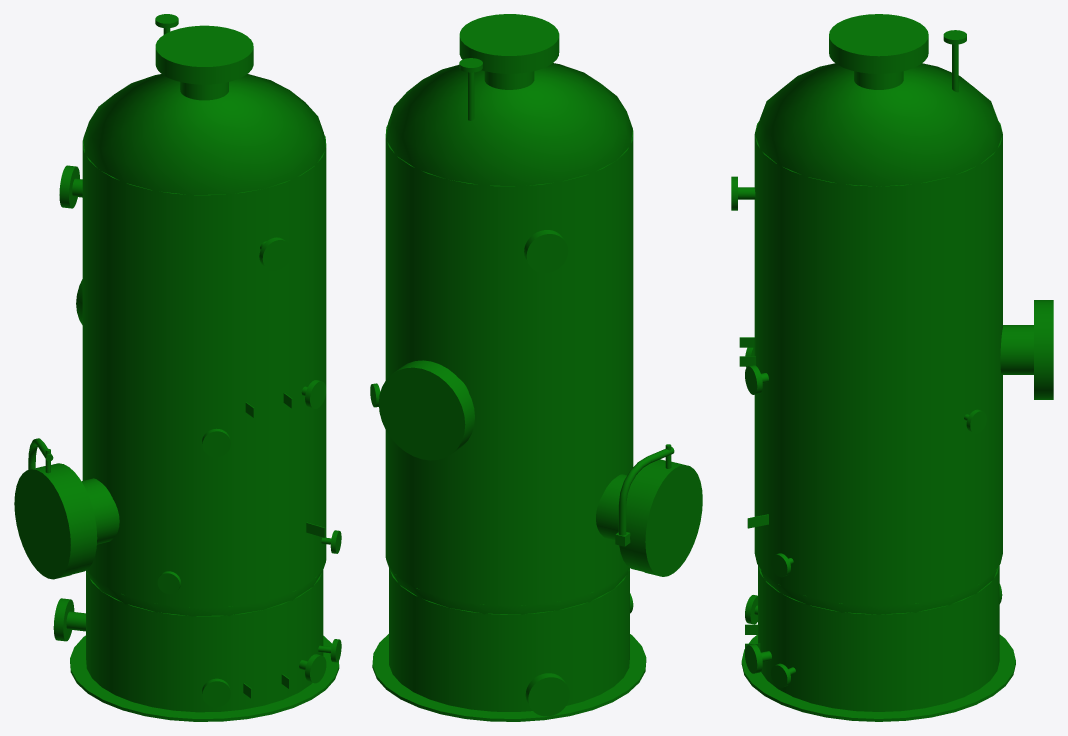
The model's file is Image-1711348128173-2280820698256_24-VG50.fbx.
3 renders of one model, left to right at view 1: azimuth 30°, elevation 25°; view 2: azimuth 150°, elevation 25°; view 3: azimuth 270°, elevation 25°, orthographic.
Visible parts, largest first — view 1: CYLINDER 2 of SUBEQUIPMENT /24-VG50/PRIM, DISH 2 of SUBEQUIPMENT /24-VG50/PRIM, CYLINDER 1 of SUBEQUIPMENT /24-VG50/SKIRT, CYLINDER 1 of SUBEQUIPMENT /24-VG50/NOZZ, /24-VG50/N2, CYLINDER 2 of SUBEQUIPMENT /24-VG50/SKIRT, /24-VG50/M1, CYLINDER 3 of SUBEQUIPMENT /24-VG50/PRIM, CYLINDER 1 of SUBEQUIPMENT /24-VG50/PRIM, DISH 1 of SUBEQUIPMENT /24-VG50/PRIM, /24-VG50/N3, /24-VG50/N7 (+5 smaller); view 2: CYLINDER 2 of SUBEQUIPMENT /24-VG50/PRIM, DISH 2 of SUBEQUIPMENT /24-VG50/PRIM, CYLINDER 1 of SUBEQUIPMENT /24-VG50/SKIRT, /24-VG50/N1, CYLINDER 1 of SUBEQUIPMENT /24-VG50/NOZZ, /24-VG50/N2, CYLINDER 2 of SUBEQUIPMENT /24-VG50/SKIRT, CYLINDER 3 of SUBEQUIPMENT /24-VG50/PRIM, CYLINDER 1 of SUBEQUIPMENT /24-VG50/PRIM, /24-VG50/M1, DISH 1 of SUBEQUIPMENT /24-VG50/PRIM, /24-VG50/N3 (+2 smaller); view 3: CYLINDER 2 of SUBEQUIPMENT /24-VG50/PRIM, CYLINDER 1 of SUBEQUIPMENT /24-VG50/SKIRT, DISH 2 of SUBEQUIPMENT /24-VG50/PRIM, /24-VG50/N2, CYLINDER 2 of SUBEQUIPMENT /24-VG50/SKIRT, /24-VG50/N1, CYLINDER 3 of SUBEQUIPMENT /24-VG50/PRIM, CYLINDER 1 of SUBEQUIPMENT /24-VG50/PRIM, DISH 1 of SUBEQUIPMENT /24-VG50/PRIM, /24-VG50/N8, /24-VG50/K2B.
Part boxes in pixels (left/top/right/bottom): CYLINDER 2 of SUBEQUIPMENT /24-VG50/PRIM: left=82, top=151, right=326, bottom=598; DISH 2 of SUBEQUIPMENT /24-VG50/PRIM: left=83, top=74, right=325, bottom=195; CYLINDER 1 of SUBEQUIPMENT /24-VG50/SKIRT: left=86, top=570, right=323, bottom=712; CYLINDER 1 of SUBEQUIPMENT /24-VG50/NOZZ: left=14, top=466, right=83, bottom=579; /24-VG50/N2: left=155, top=25, right=253, bottom=100; CYLINDER 2 of SUBEQUIPMENT /24-VG50/SKIRT: left=70, top=635, right=339, bottom=721; /24-VG50/M1: left=51, top=463, right=119, bottom=574; CYLINDER 3 of SUBEQUIPMENT /24-VG50/PRIM: left=82, top=135, right=326, bottom=204; CYLINDER 1 of SUBEQUIPMENT /24-VG50/PRIM: left=87, top=551, right=326, bottom=607; DISH 1 of SUBEQUIPMENT /24-VG50/PRIM: left=86, top=561, right=325, bottom=616; /24-VG50/N3: left=53, top=598, right=85, bottom=641; /24-VG50/N7: left=259, top=237, right=291, bottom=270; CYLINDER 2 of SUBEQUIPMENT /24-VG50/PRIM: left=385, top=143, right=633, bottom=595; DISH 2 of SUBEQUIPMENT /24-VG50/PRIM: left=386, top=63, right=632, bottom=186; CYLINDER 1 of SUBEQUIPMENT /24-VG50/SKIRT: left=389, top=568, right=629, bottom=711; /24-VG50/N1: left=378, top=360, right=474, bottom=460; CYLINDER 1 of SUBEQUIPMENT /24-VG50/NOZZ: left=632, top=461, right=702, bottom=576; /24-VG50/N2: left=459, top=14, right=559, bottom=89; CYLINDER 2 of SUBEQUIPMENT /24-VG50/SKIRT: left=372, top=634, right=646, bottom=721; CYLINDER 3 of SUBEQUIPMENT /24-VG50/PRIM: left=385, top=125, right=633, bottom=196; CYLINDER 1 of SUBEQUIPMENT /24-VG50/PRIM: left=385, top=548, right=628, bottom=605; /24-VG50/M1: left=596, top=459, right=665, bottom=571; DISH 1 of SUBEQUIPMENT /24-VG50/PRIM: left=386, top=559, right=629, bottom=614; /24-VG50/N3: left=525, top=673, right=569, bottom=716; CYLINDER 2 of SUBEQUIPMENT /24-VG50/PRIM: left=754, top=145, right=1002, bottom=595; CYLINDER 1 of SUBEQUIPMENT /24-VG50/SKIRT: left=758, top=565, right=999, bottom=711; DISH 2 of SUBEQUIPMENT /24-VG50/PRIM: left=754, top=63, right=1002, bottom=186; /24-VG50/N2: left=829, top=14, right=928, bottom=89; CYLINDER 2 of SUBEQUIPMENT /24-VG50/SKIRT: left=741, top=634, right=1015, bottom=721; /24-VG50/N1: left=1000, top=300, right=1053, bottom=399; CYLINDER 3 of SUBEQUIPMENT /24-VG50/PRIM: left=754, top=121, right=1002, bottom=196; CYLINDER 1 of SUBEQUIPMENT /24-VG50/PRIM: left=754, top=544, right=1002, bottom=605; DISH 1 of SUBEQUIPMENT /24-VG50/PRIM: left=760, top=568, right=997, bottom=614; /24-VG50/N8: left=943, top=30, right=966, bottom=92; /24-VG50/K2B: left=745, top=644, right=771, bottom=673.
Bounding box in the file's own units: 3 × 2.95 × 6.35.
